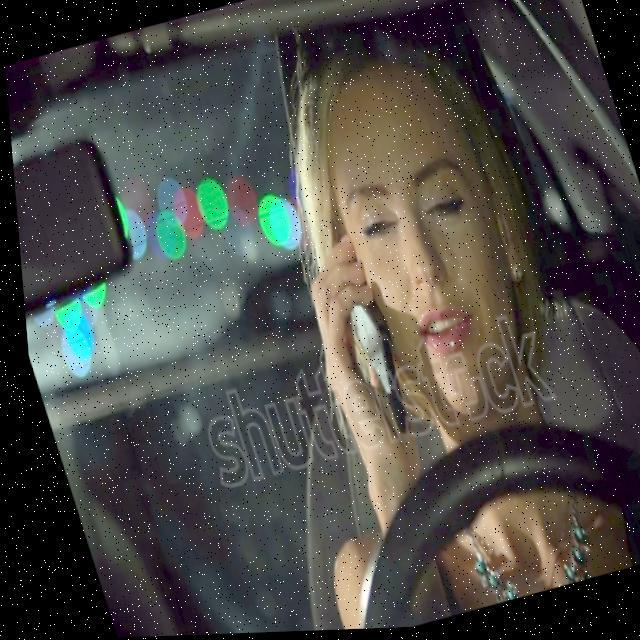PhoneCall: (318, 256, 416, 444)
